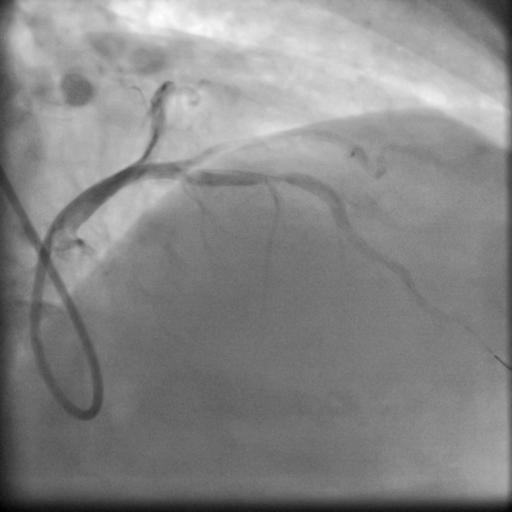Stenosis: (261, 168, 286, 189)
